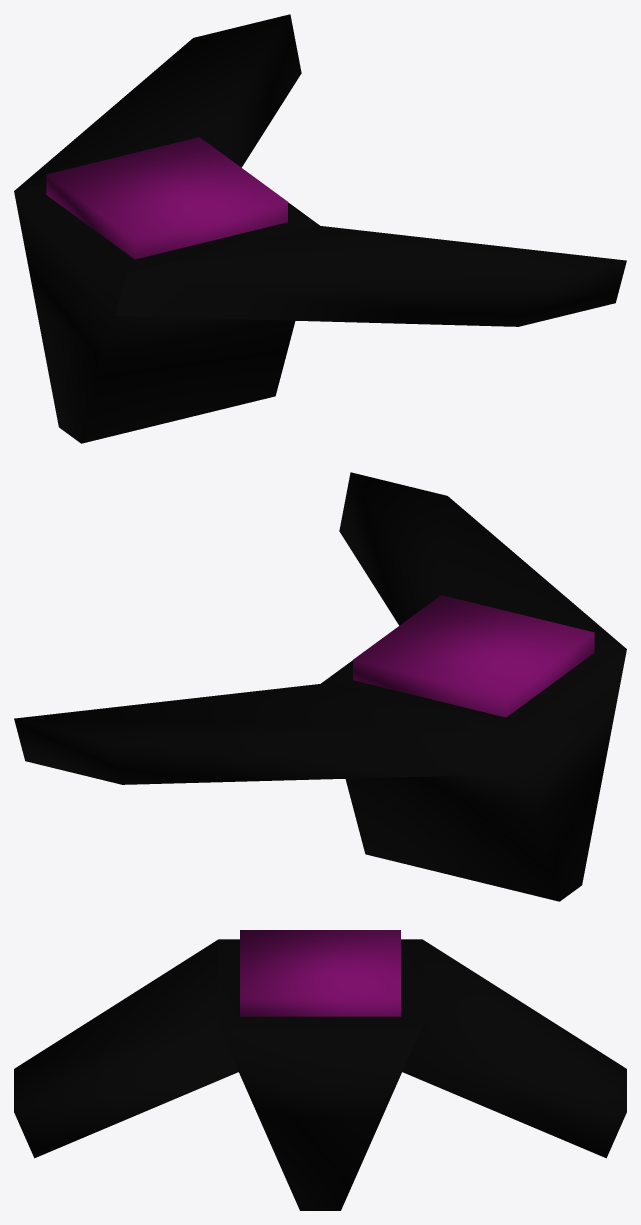
Rendered from enemy_mech_weaponholder.glb.
3 renders of one model, top to bottom at view 1: azimuth 30°, elevation 25°; view 2: azimuth 150°, elevation 25°; view 3: azimuth 270°, elevation 25°, orthographic. The views are drawn at different scales.
Visible parts, largest first — view 1: Cube.304, Cube.303; view 2: Cube.304, Cube.303; view 3: Cube.304, Cube.303.
Part boxes in pixels (bbox=[...]): Cube.304: bbox=[14, 14, 626, 443]; Cube.303: bbox=[46, 137, 287, 259]; Cube.304: bbox=[14, 472, 626, 901]; Cube.303: bbox=[353, 595, 594, 717]; Cube.304: bbox=[14, 939, 626, 1210]; Cube.303: bbox=[240, 930, 400, 1016].
Bounding box in the file's own units: 4 × 2.2 × 6.
